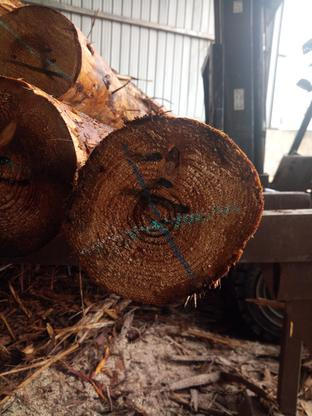mood: (67, 117, 263, 308)
